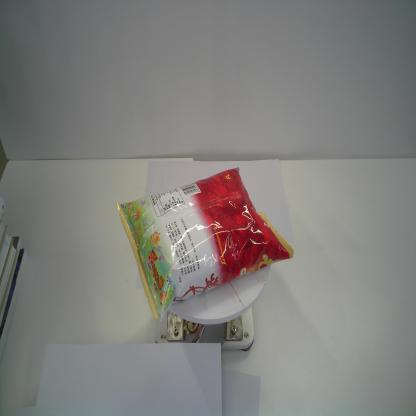Puffed Food: (117, 167, 294, 322)
